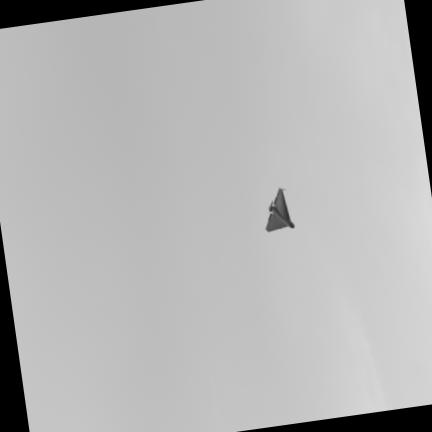Shahed: (266, 188, 293, 231)
